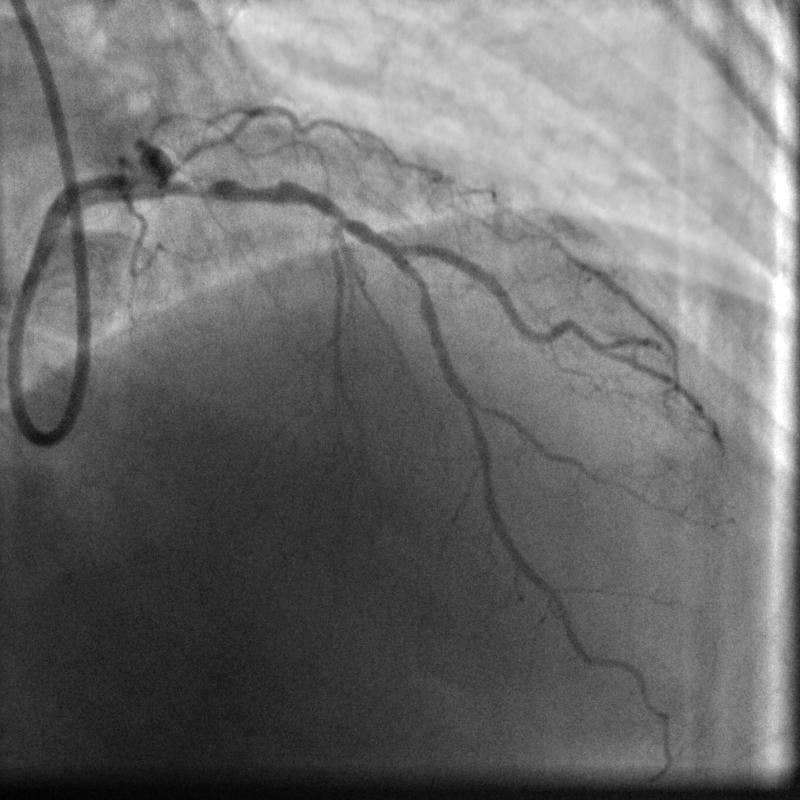Stenosis: (178, 167, 283, 205)
